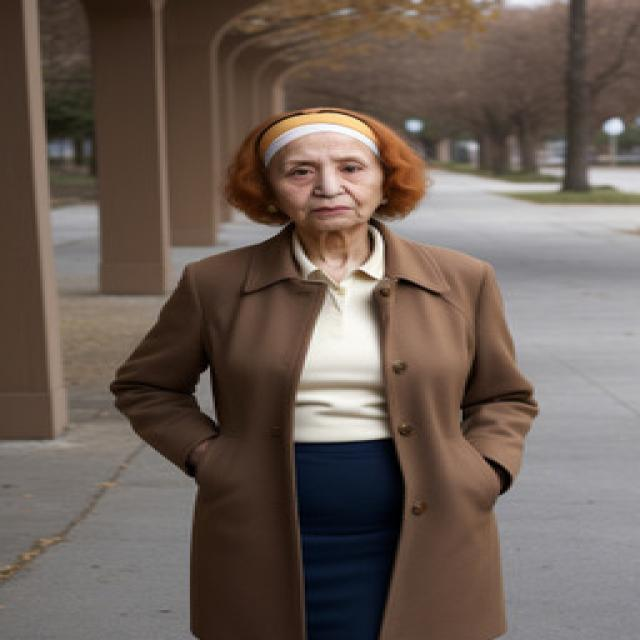Ai human 2: (107, 92, 568, 640)
